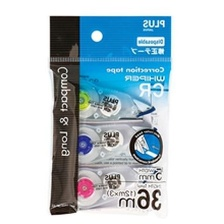correction_fluid: (53, 120, 162, 170), (52, 77, 162, 125), (55, 162, 159, 207)
plastic_bag: (47, 13, 173, 217)
